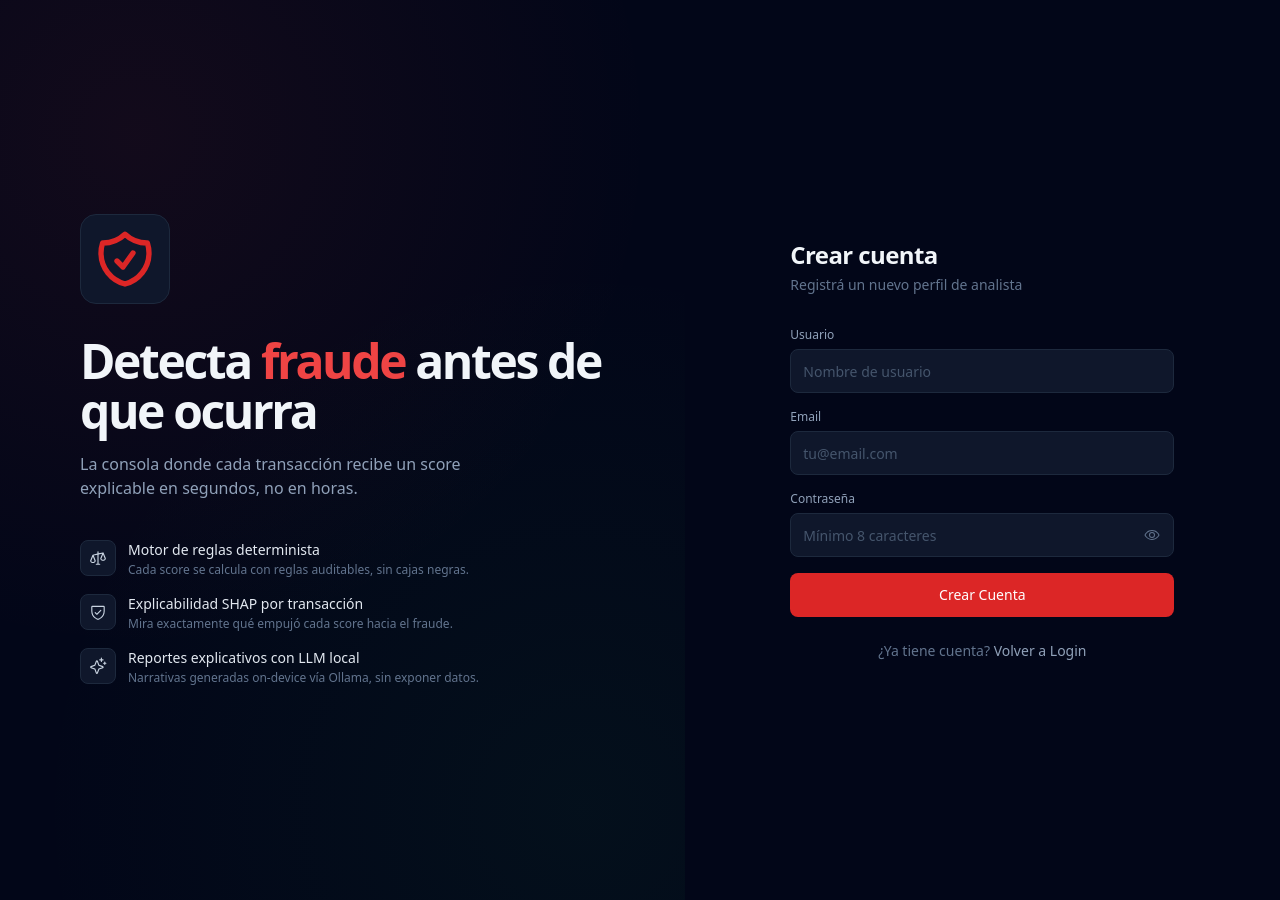
RegisterPage › flips password visibility with the eye toggle
The image size is (1280, 900).
Click the button named "Mostrar contraseña": (1152, 535) [1130,513,1174,557]
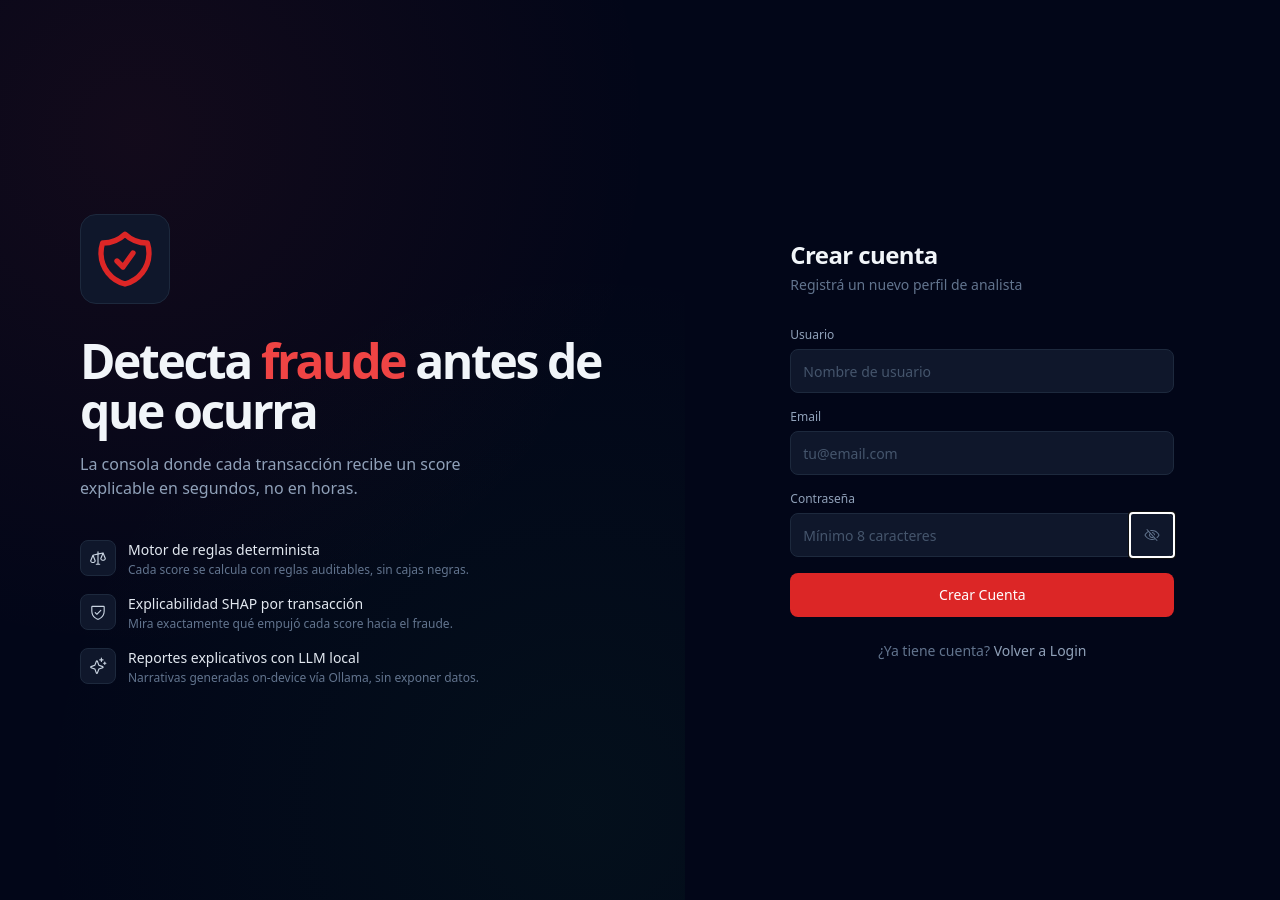
Expected: the button named "Ocultar contraseña" is shown, [1130,513,1174,557]
